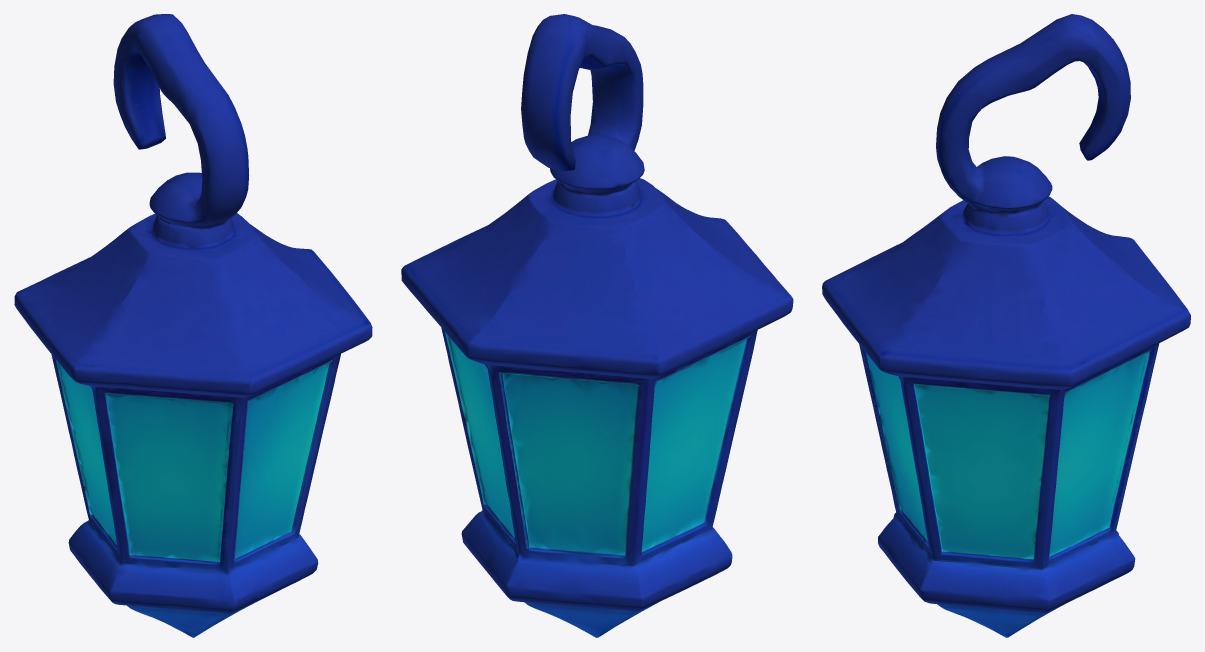
File: hmwisp.glb
3 renders of one model, left to right at view 1: azimuth 30°, elevation 25°; view 2: azimuth 150°, elevation 25°; view 3: azimuth 270°, elevation 25°, orthographic. The views are drawn at different scales.
Visible parts, largest first — view 1: tripo_node_2e3852b7-8458-41c7-8d5a-29cd93f52e4b; view 2: tripo_node_2e3852b7-8458-41c7-8d5a-29cd93f52e4b; view 3: tripo_node_2e3852b7-8458-41c7-8d5a-29cd93f52e4b.
Part boxes in pixels (box(x1,y1,x2,y2)): tripo_node_2e3852b7-8458-41c7-8d5a-29cd93f52e4b: box(14, 14, 372, 637); tripo_node_2e3852b7-8458-41c7-8d5a-29cd93f52e4b: box(401, 14, 793, 637); tripo_node_2e3852b7-8458-41c7-8d5a-29cd93f52e4b: box(822, 14, 1190, 637).
Bounding box in the file's own units: 0.5273 × 1 × 0.5404.
Materials: 1 (1 with a texture image).
